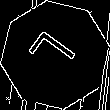L_SE: (26, 27, 84, 83)
